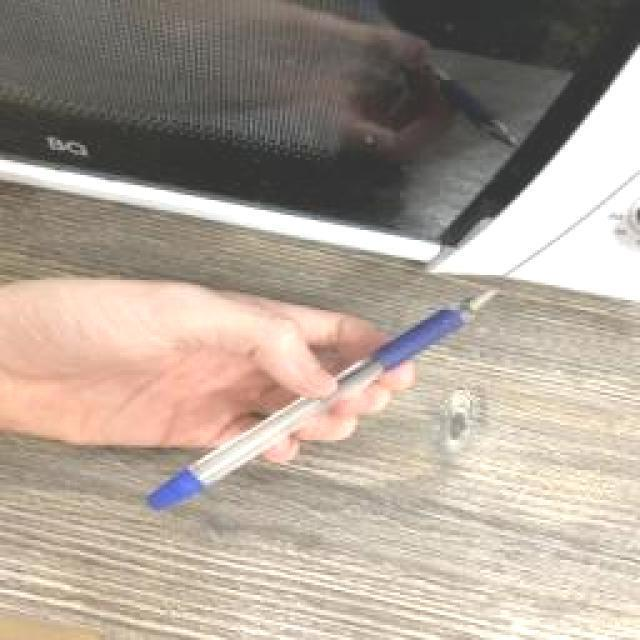pen: (150, 288, 500, 511)
